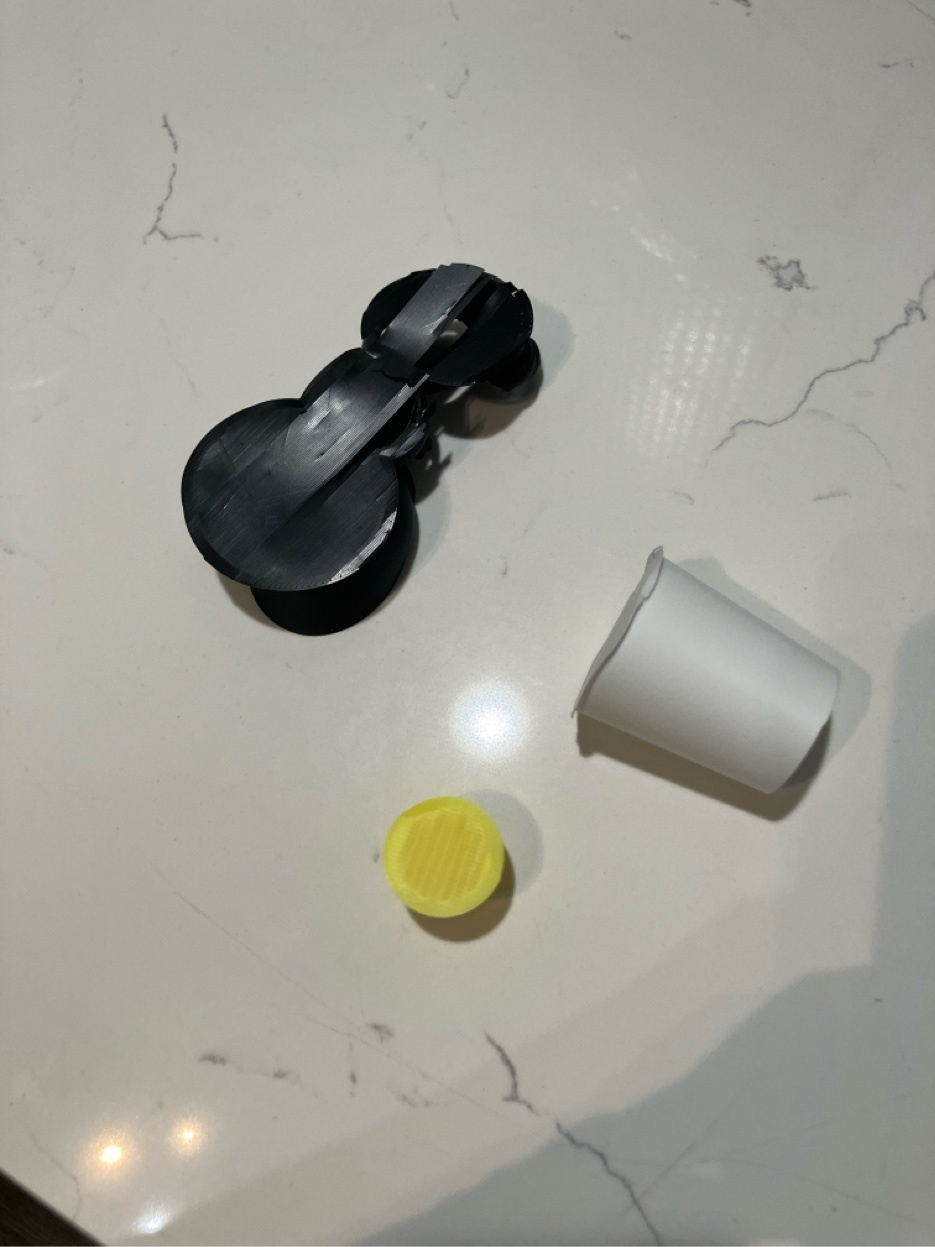cup: (572, 545, 840, 795)
holder: (181, 264, 543, 636)
knob: (383, 796, 513, 941)
